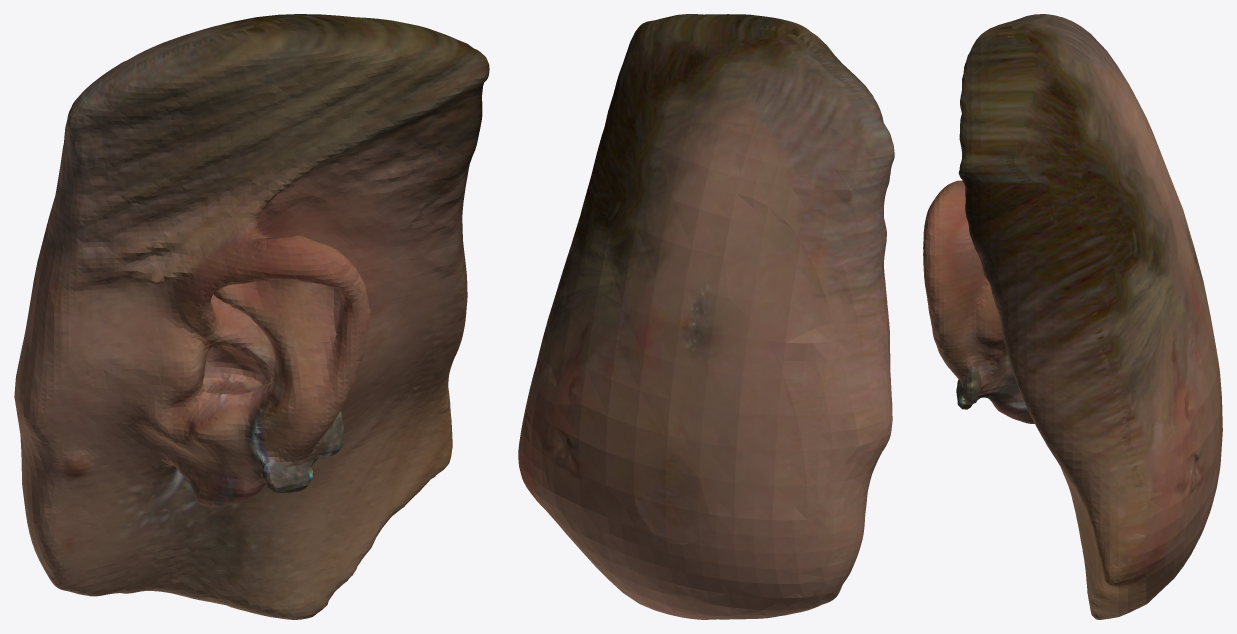
The model's file is bal_de_jo_ful.obj.
The picture shows the model from 3 angles, left to right: view 1: azimuth 30°, elevation 25°; view 2: azimuth 150°, elevation 25°; view 3: azimuth 270°, elevation 25°; orthographic projection. The views are drawn at different scales.
Size of the model in its own units: 81.12 by 119 by 58.65.
Materials: 1 (1 with a texture image).
